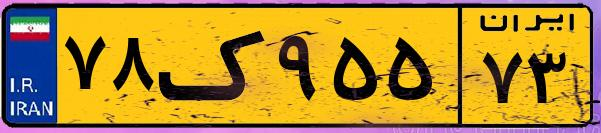3: (525, 38, 570, 115)
5: (385, 28, 445, 110), (330, 28, 385, 110)
7: (57, 26, 110, 100), (475, 38, 525, 113)
8: (110, 28, 158, 98)
9: (270, 28, 330, 110)
ک: (158, 12, 270, 120)
